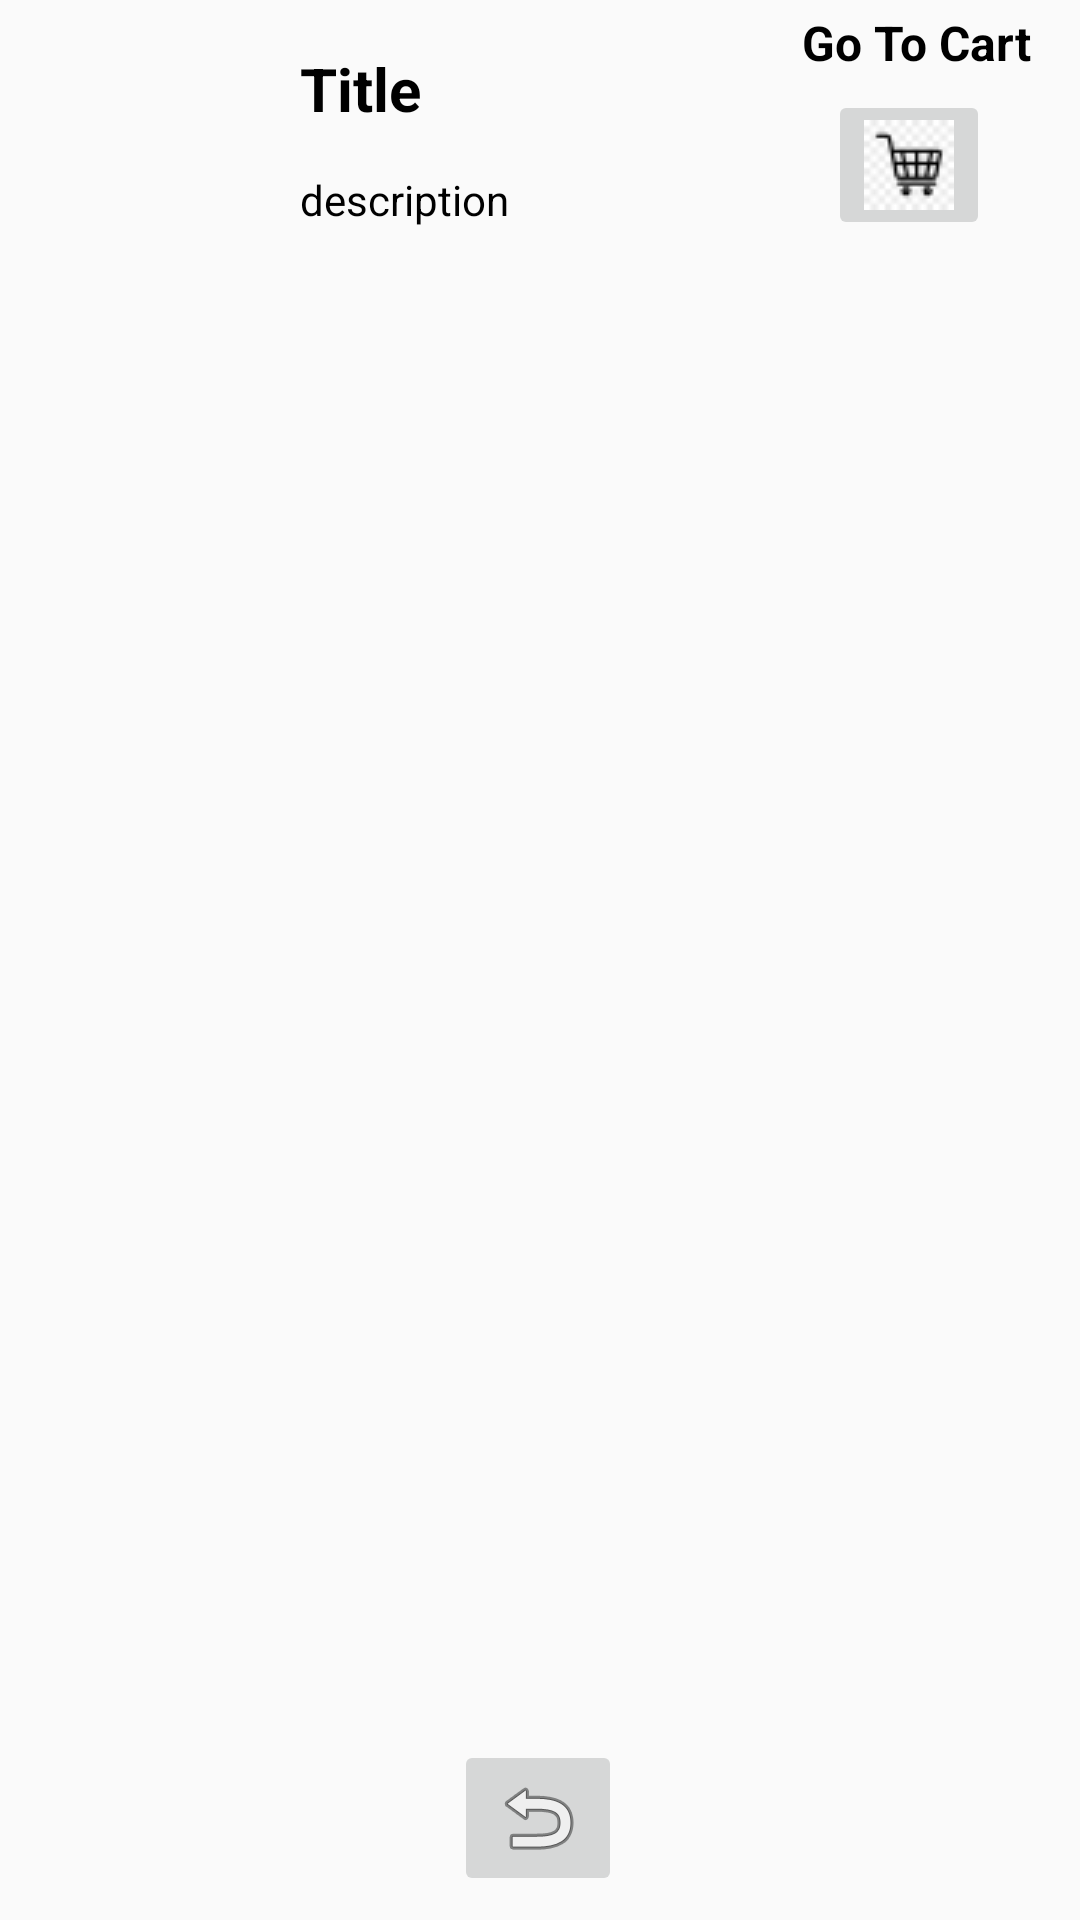

Screen size 1080 × 1920. Icon name, then its box in pixels as (x1,y1,x2,y2):
revert: (466,1758,610,1878)
